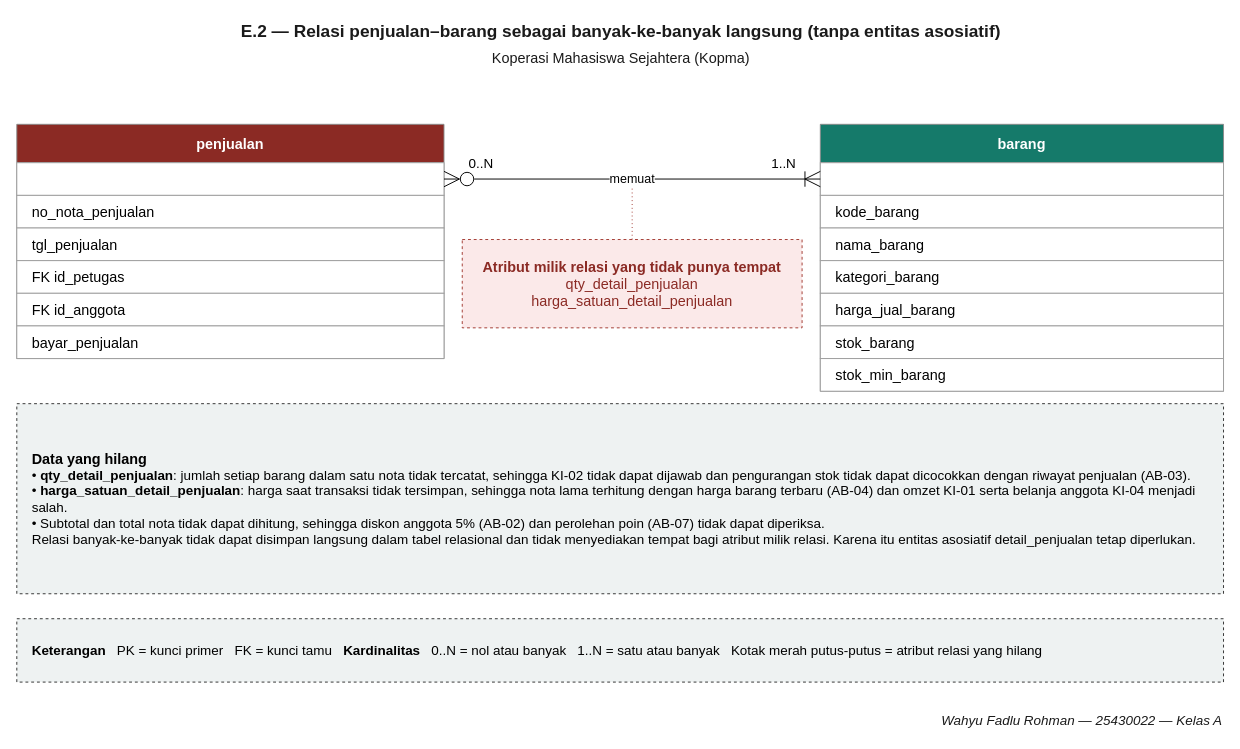
This 1240x749 diagram has some shape labels left out. Here are the shapes that lost their labels. From the top down, the box of each, then its label:
(16, 162, 444, 195): PK id_penjualan
(819, 162, 1224, 195): PK id_barang
